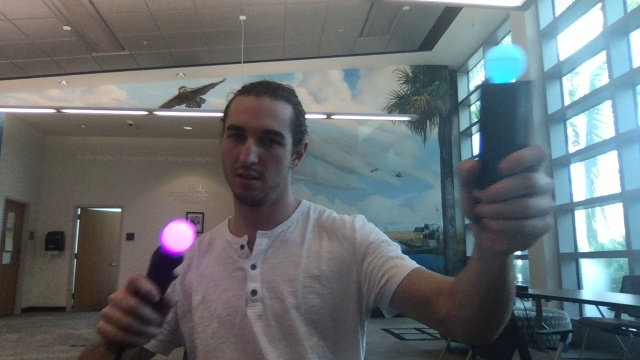wand: (487, 44, 526, 81), (162, 220, 194, 253)
